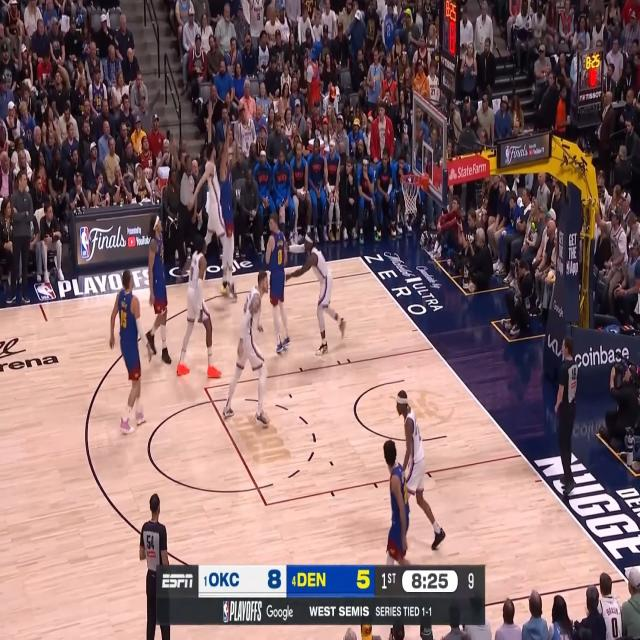ball: (266, 2, 276, 21)
number: (120, 310, 128, 330), (277, 248, 283, 266)
player: (188, 97, 236, 301), (395, 389, 446, 552), (285, 231, 347, 355), (223, 271, 269, 433), (176, 235, 222, 380), (110, 268, 148, 434), (264, 212, 294, 354), (145, 215, 172, 365), (382, 439, 412, 567), (217, 118, 235, 298)
referee: (140, 492, 172, 640), (169, 132, 198, 274), (555, 335, 579, 496)
rim: (399, 174, 422, 183)
